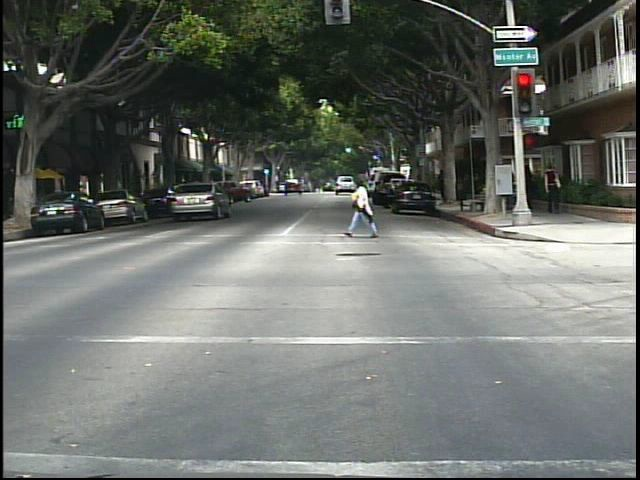person: (347, 175, 383, 243), (543, 159, 566, 220), (522, 158, 541, 216), (434, 166, 452, 209)
